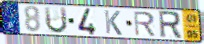4: (77, 7, 99, 37)
8: (22, 5, 42, 34)
K: (103, 9, 124, 37)
R: (157, 10, 184, 40), (133, 10, 157, 37)
U: (43, 6, 69, 35)
